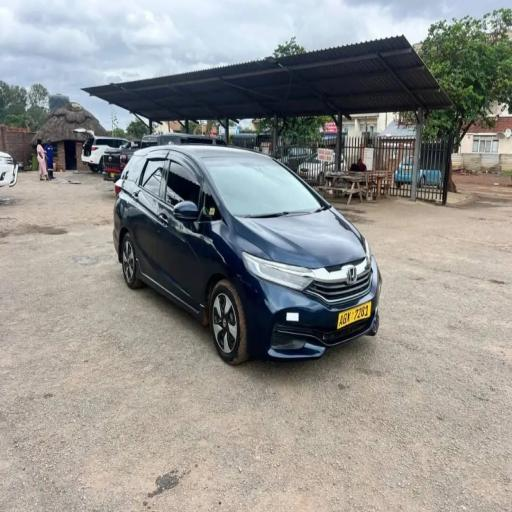number-plates: (339, 304, 374, 328)
